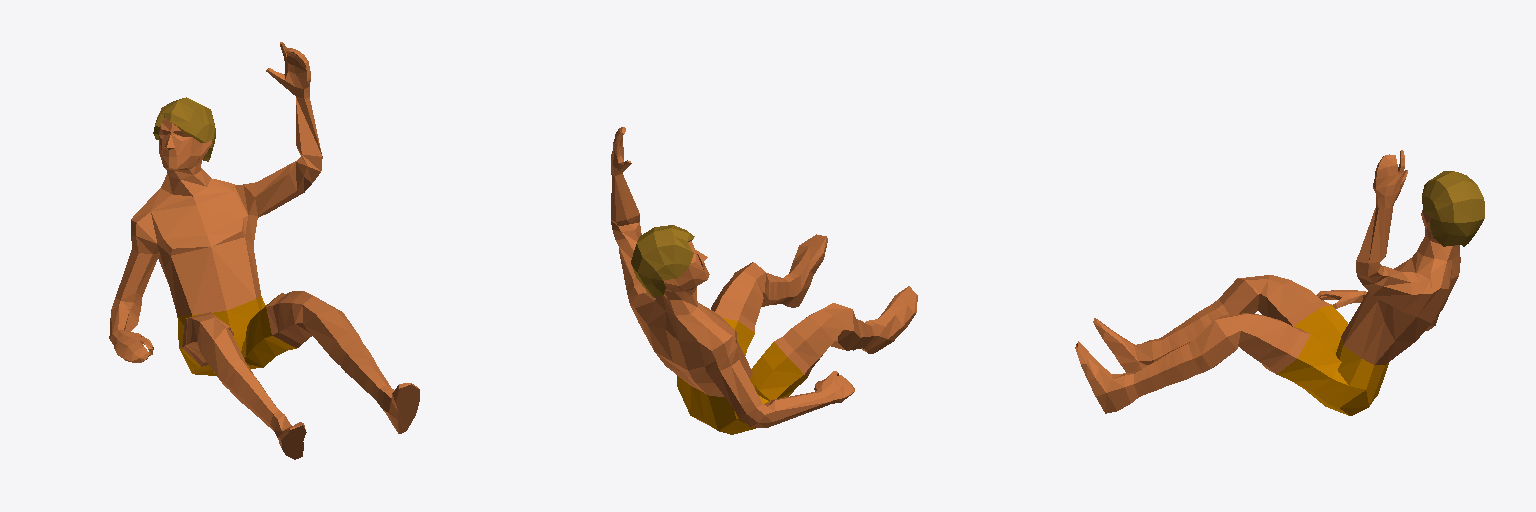
The model's file is meV2_L1.obj.
The picture shows the model from 3 angles: view 1: azimuth 30°, elevation 25°; view 2: azimuth 150°, elevation 25°; view 3: azimuth 270°, elevation 25°; orthographic projection.
Visible parts, largest first — view 1: male_Circle.008, male.004_Circle.004; view 2: male_Circle.008, male.004_Circle.004; view 3: male_Circle.008, male.004_Circle.004.
Part boxes in pixels (x1,y1,x2,y2): male_Circle.008: (109,42,419,459); male.004_Circle.004: (153,97,215,161); male_Circle.008: (611,127,917,434); male.004_Circle.004: (631,225,694,297); male_Circle.008: (1075,150,1460,415); male.004_Circle.004: (1422,171,1484,246).
Bounding box in the file's own units: 1.6 × 2.06 × 2.58.